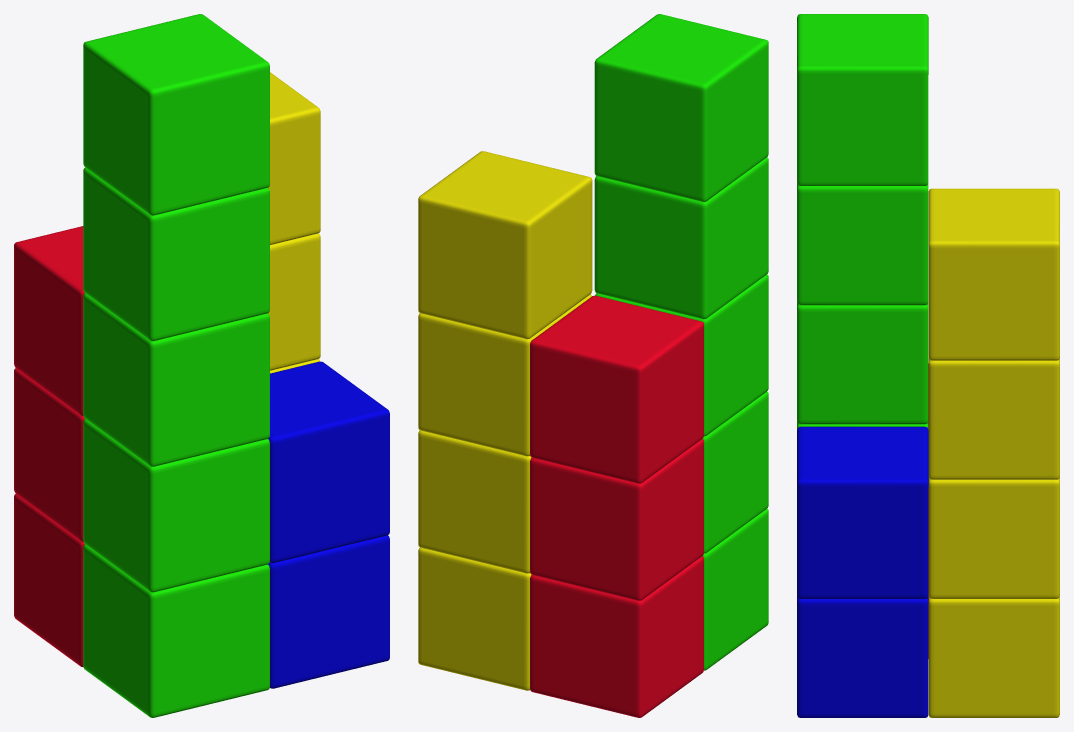
3 views of the same model, side by side, from view 1: azimuth 30°, elevation 25°; view 2: azimuth 150°, elevation 25°; view 3: azimuth 270°, elevation 25° (orthographic). The views are drawn at different scales.
Parts seen in each view (by area): view 1: Cube.008, Cube.005, Cube.007, Cube.006; view 2: Cube.008, Cube.007, Cube.006; view 3: Cube.006, Cube.008, Cube.005.
Boxes of the visible parts, x1=… form: Cube.008: x1=83, y1=14, x2=269, y2=717; Cube.005: x1=268, y1=361, x2=389, y2=688; Cube.007: x1=14, y1=226, x2=84, y2=667; Cube.006: x1=268, y1=72, x2=320, y2=373; Cube.008: x1=594, y1=14, x2=768, y2=670; Cube.007: x1=530, y1=295, x2=703, y2=717; Cube.006: x1=418, y1=151, x2=592, y2=690; Cube.006: x1=928, y1=188, x2=1059, y2=717; Cube.008: x1=797, y1=14, x2=928, y2=429; Cube.005: x1=797, y1=426, x2=928, y2=717.
Bounding box in the file's own units: 0.24 × 0.6 × 0.24.
